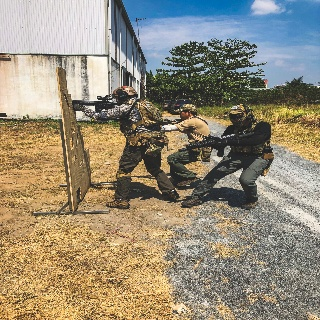rifle: (188, 130, 252, 157), (72, 94, 119, 115), (144, 117, 187, 134)
